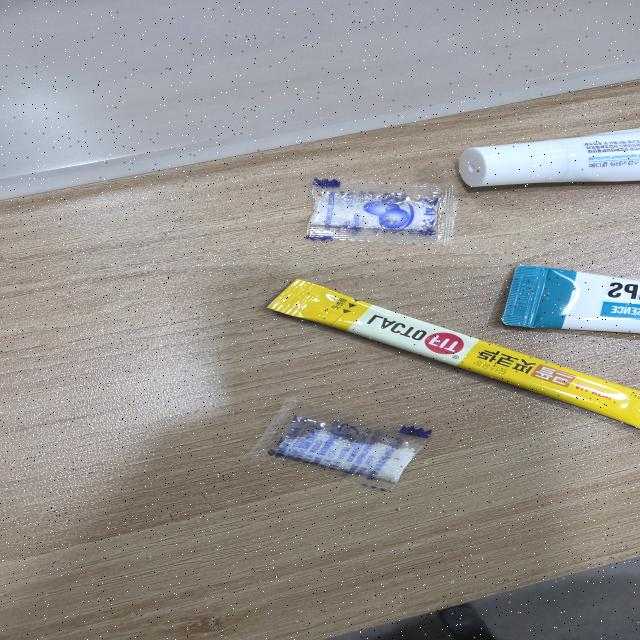lacto: (263, 279, 640, 431)
lib: (459, 126, 640, 190), (498, 262, 640, 336)
salt: (242, 398, 433, 493), (297, 178, 460, 247)
